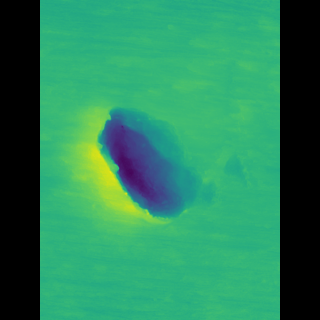Loch: (103, 100, 204, 236)
